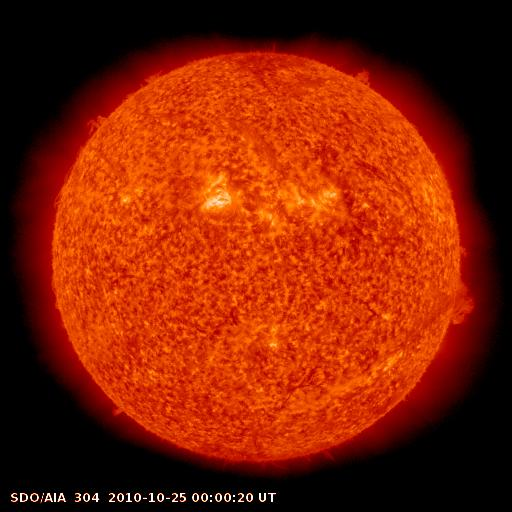prominence: (438, 275, 488, 332), (49, 159, 82, 214), (125, 60, 169, 98), (77, 108, 113, 151), (96, 388, 133, 429), (443, 230, 480, 266), (345, 58, 381, 94)
